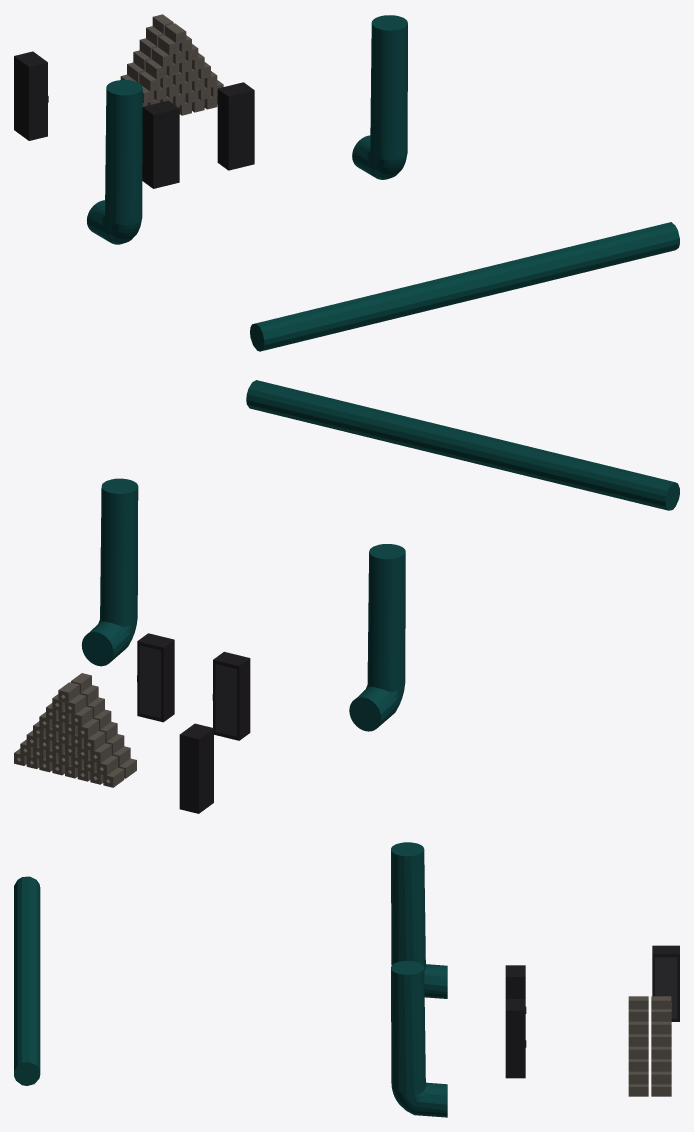
Rendered from zawartosc.fbx.
The picture shows the model from 3 angles, top to bottom: view 1: azimuth 30°, elevation 25°; view 2: azimuth 150°, elevation 25°; view 3: azimuth 270°, elevation 25°; orthographic projection. The views are drawn at different scales.
Parts seen in each view (by area): view 1: Cylinder.002, Cylinder.001, Cylinder, Cube.001, Plane.005, Plane.003, Plane.001, Cube.1213; view 2: Cylinder.002, Cylinder.001, Cylinder, Cube.1213, Plane.005, Plane.003, Plane.001, Cube.001; view 3: Cylinder, Cylinder.002, Cylinder.001, Cube.1213, Cube.001, Plane.005, Plane.001, Plane.003.
Part boxes in pixels (x1,y1,x2,y2): Cylinder.002: [250, 222, 679, 351]; Cylinder.001: [87, 80, 142, 244]; Cylinder: [352, 15, 407, 179]; Cube.001: [139, 23, 223, 115]; Plane.005: [217, 82, 254, 170]; Plane.003: [142, 100, 179, 188]; Plane.001: [14, 51, 48, 140]; Cube.1213: [120, 14, 173, 82]; Cylinder.002: [246, 380, 679, 510]; Cylinder.001: [349, 544, 405, 731]; Cylinder: [81, 478, 138, 666]; Cube.1213: [14, 682, 124, 787]; Plane.005: [137, 633, 174, 722]; Plane.003: [212, 651, 250, 740]; Plane.001: [179, 723, 213, 813]; Cube.001: [71, 673, 136, 778]; Cylinder: [391, 961, 447, 1117]; Cylinder.002: [14, 876, 40, 1085]; Cylinder.001: [391, 842, 447, 998]; Cube.1213: [651, 996, 671, 1096]; Cube.001: [628, 996, 648, 1096]; Plane.005: [505, 999, 526, 1078]; Plane.001: [652, 945, 679, 1021]; Plane.003: [505, 965, 526, 1013].
Bounding box in the file's own units: 6580 × 2451 × 9973.
